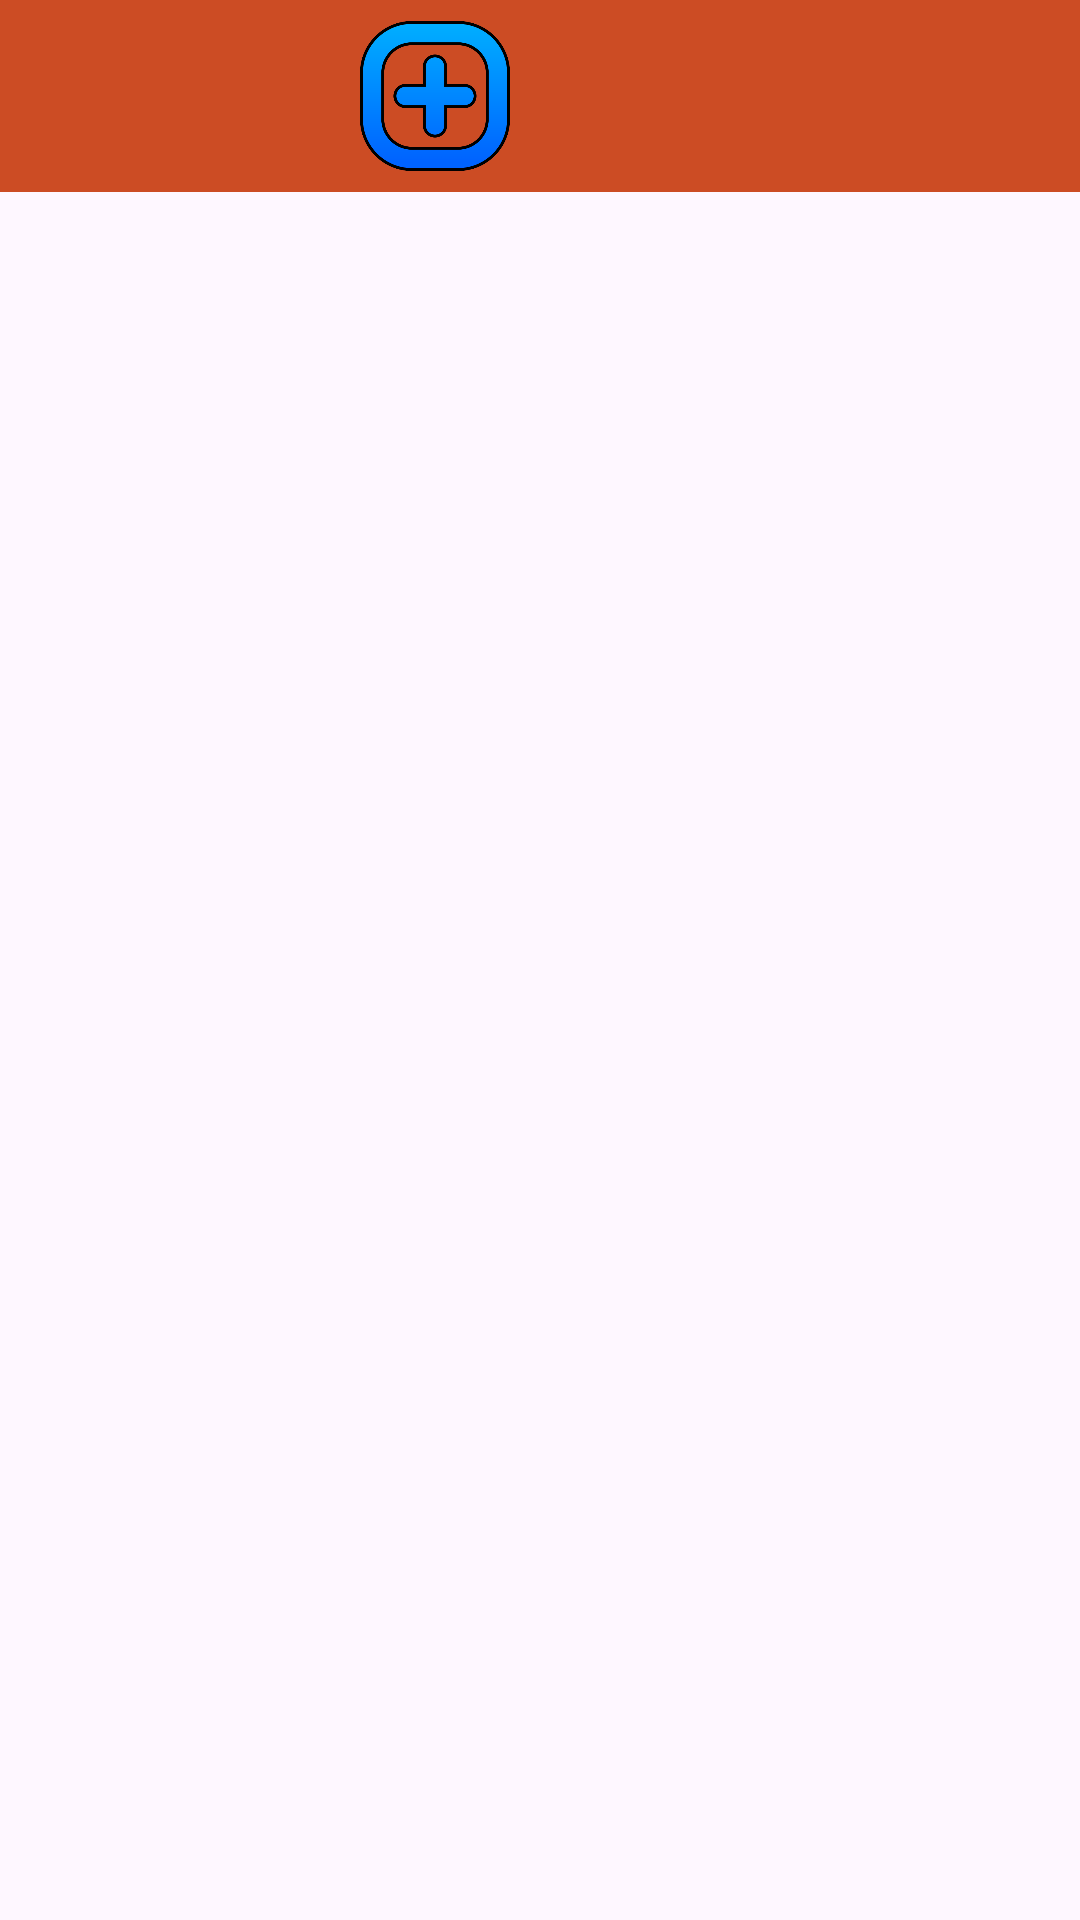

Named icons in this screenshot (1080×1920) and their centers, [x,y]:
add: [435,96]
